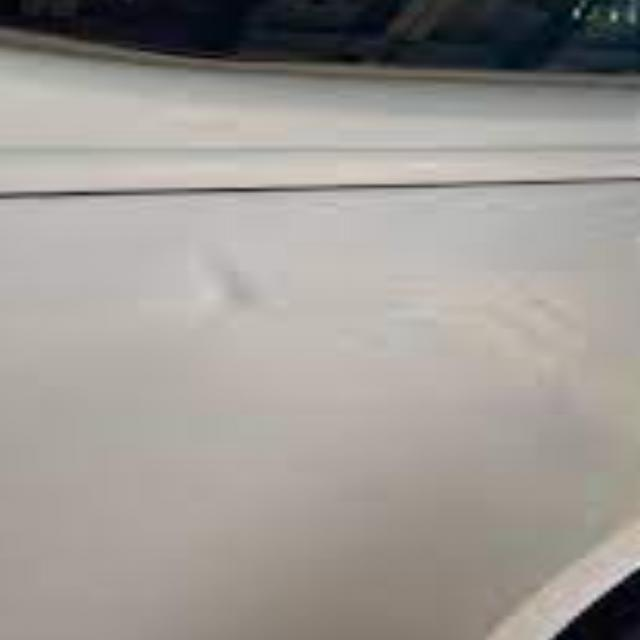dents: (157, 214, 313, 332)
